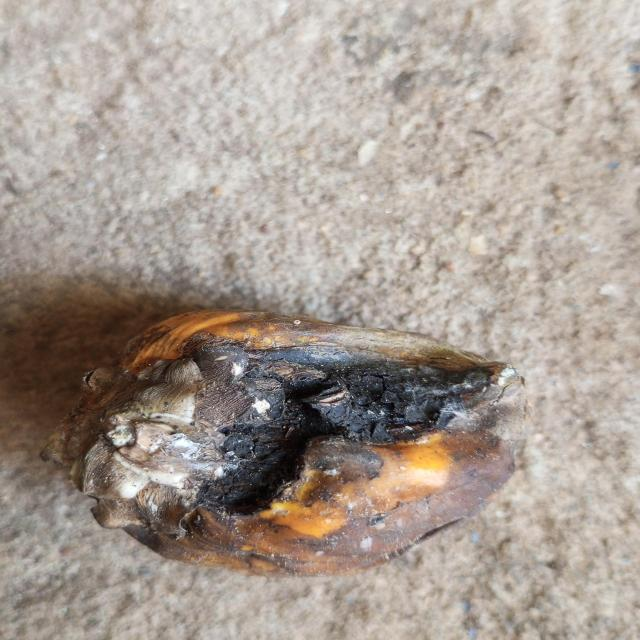damaged: (44, 310, 525, 576)
